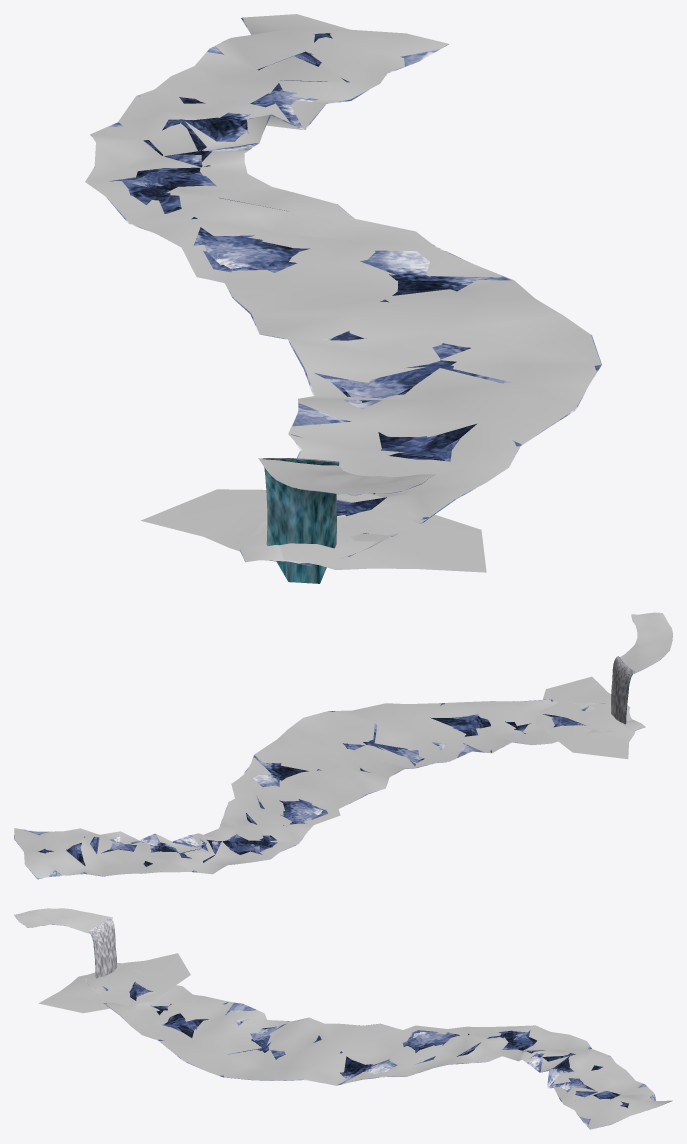
Rendered from EKH_BARRELROOM_PS_JA1_JA_RIVER8447.obj.
3 views of the same model, one above another, from view 1: azimuth 30°, elevation 25°; view 2: azimuth 150°, elevation 25°; view 3: azimuth 270°, elevation 25° (orthographic). The views are drawn at different scales.
Visible parts, largest first — view 1: A1_JA_River8447; view 2: A1_JA_River8447; view 3: A1_JA_River8447.
Part boxes in pixels (left/top/right/bottom): A1_JA_River8447: left=85, top=14, right=601, bottom=583; A1_JA_River8447: left=14, top=612, right=672, bottom=879; A1_JA_River8447: left=14, top=908, right=672, bottom=1129.
Size of the model in its own units: 4089 by 870 by 6470.
